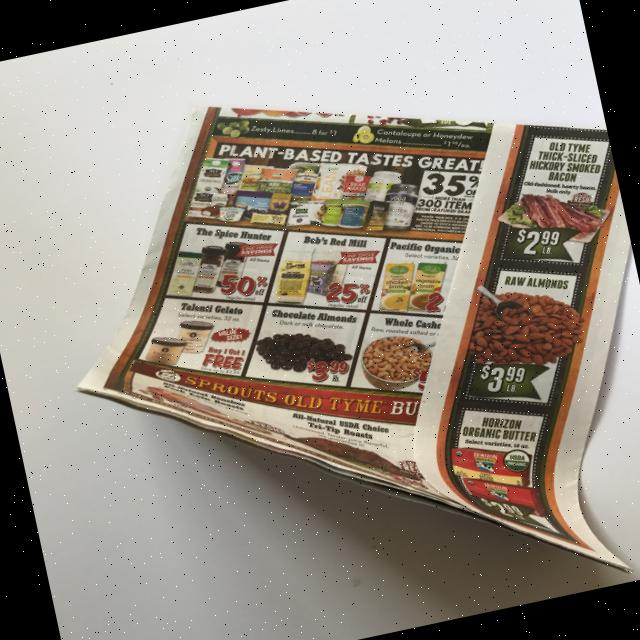paper: (22, 23, 640, 640)
